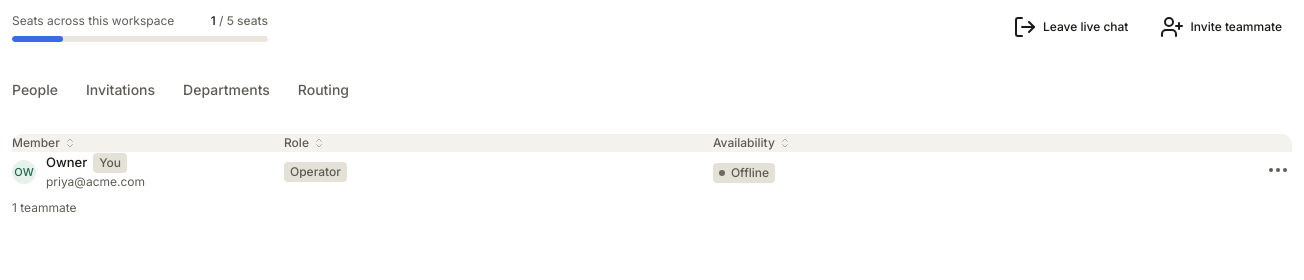
Test case: MembersPage — deactivating a teammate › never offers to deactivate the signed-in owner’s own seat
Expected: the text "Owner" is shown, [46,152,87,172]
Click the button named "actions for owner".
click(1278, 170)  # box [1264,156,1292,184]
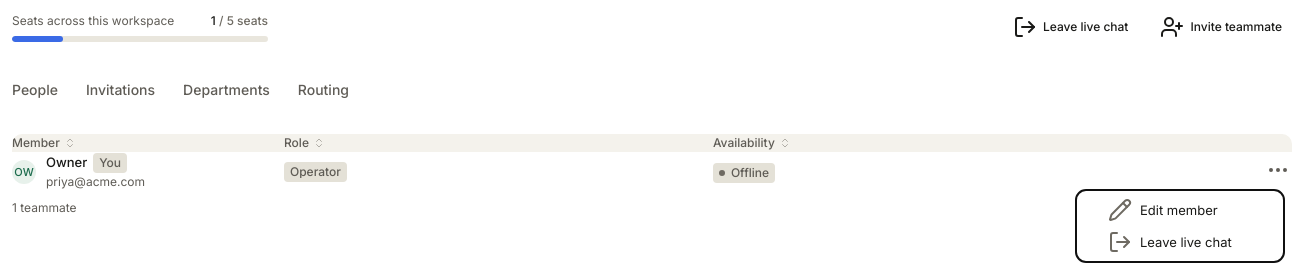
Expected: the menu item "Leave live chat" is shown, [1108,230,1232,254]
